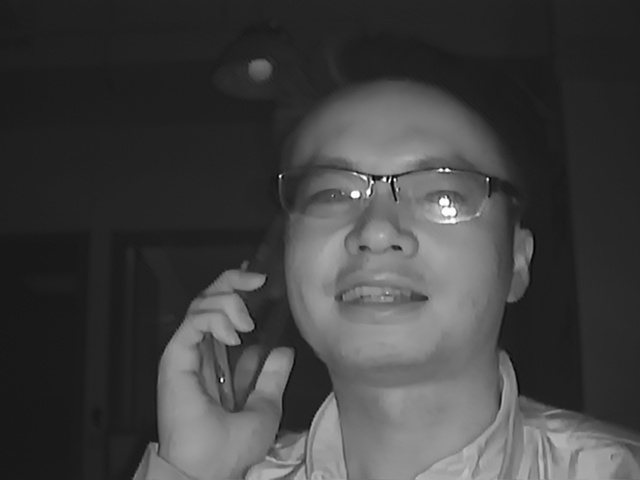hand: (148, 269, 295, 456)
